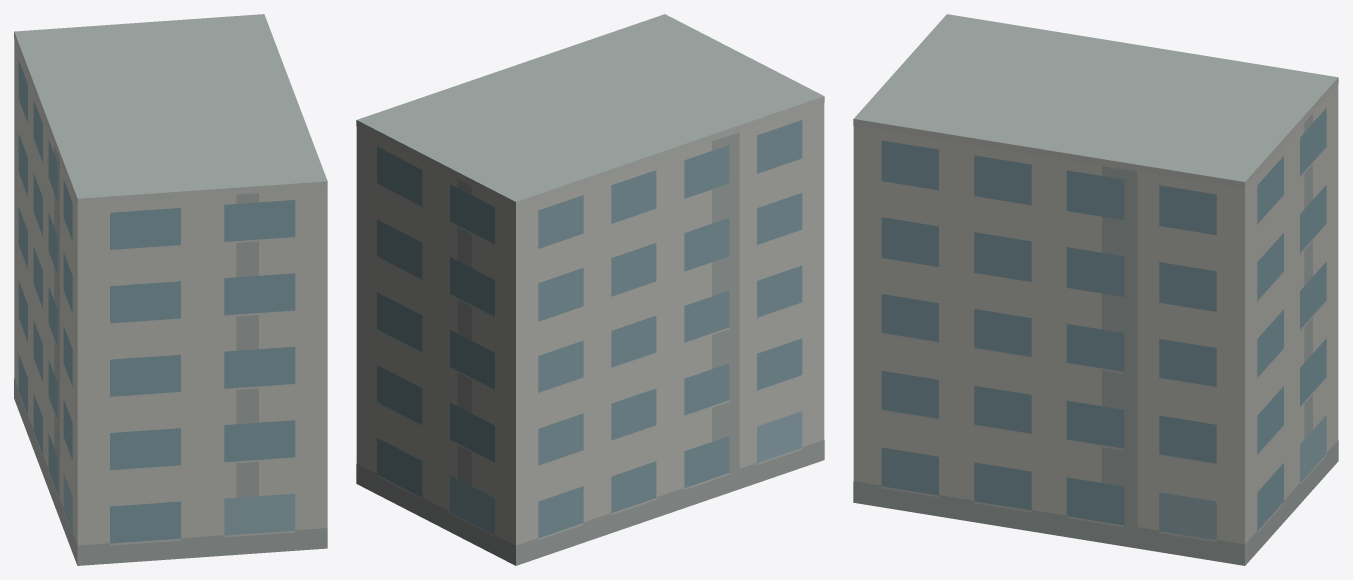
Rendered from survey-upis-32971357.glb.
The picture shows the model from 3 angles, left to right: view 1: azimuth 30°, elevation 25°; view 2: azimuth 150°, elevation 25°; view 3: azimuth 270°, elevation 25°; orthographic projection. The views are drawn at different scales.
Visible parts, largest first — view 1: survey-upis-32971357.tmp; view 2: survey-upis-32971357.tmp; view 3: survey-upis-32971357.tmp.
Part boxes in pixels (x1,y1,x2,y2): survey-upis-32971357.tmp: (14, 14, 327, 565); survey-upis-32971357.tmp: (356, 14, 824, 565); survey-upis-32971357.tmp: (853, 14, 1338, 565).
Bounding box in the file's own units: 12.22 × 13 × 14.9.
